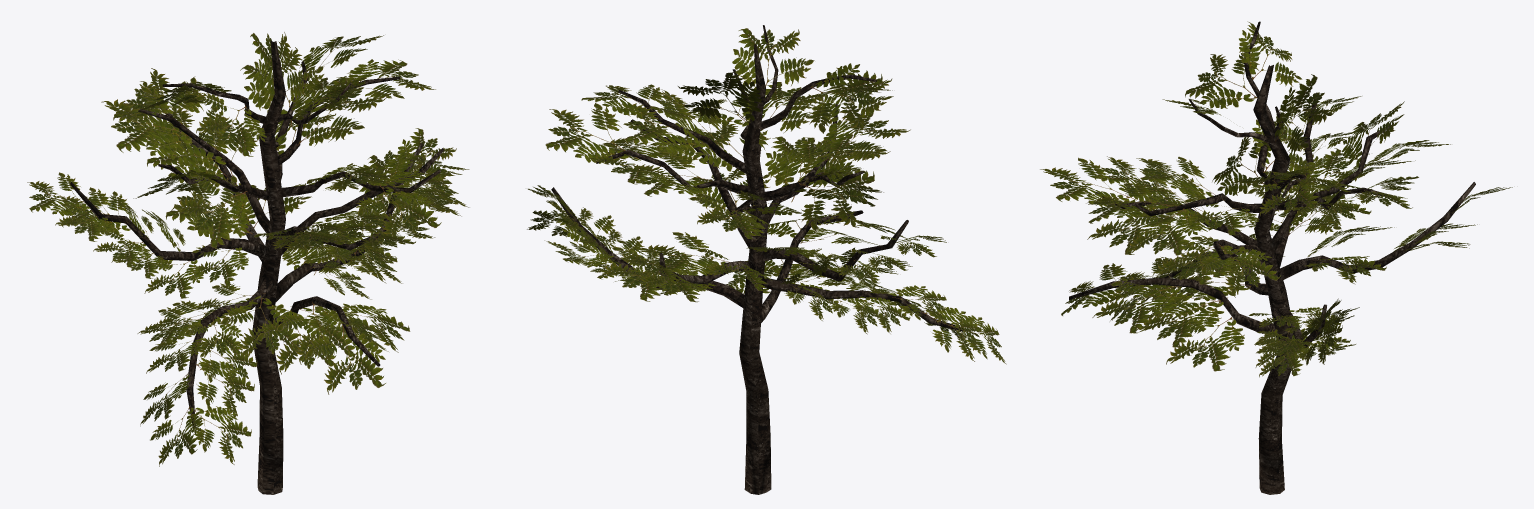
File: tree_normal.fbx
3 renders of one model, left to right at view 1: azimuth 30°, elevation 25°; view 2: azimuth 150°, elevation 25°; view 3: azimuth 270°, elevation 25°, orthographic. The views are drawn at different scales.
Parts seen in each view (by area): view 1: tree_RAM; view 2: tree_RAM; view 3: tree_RAM.
Part boxes in pixels (<box>): tree_RAM: <box>27,32,469,494</box>; tree_RAM: <box>527,25,1006,494</box>; tree_RAM: <box>1040,21,1512,494</box>.
Size of the model in its own units: 789 by 771 by 787.
